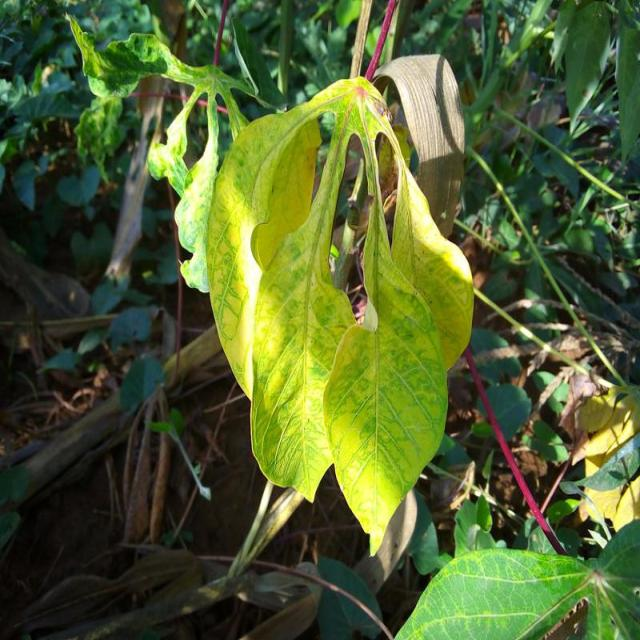cassava leaf: (204, 72, 474, 552), (393, 517, 638, 638)
